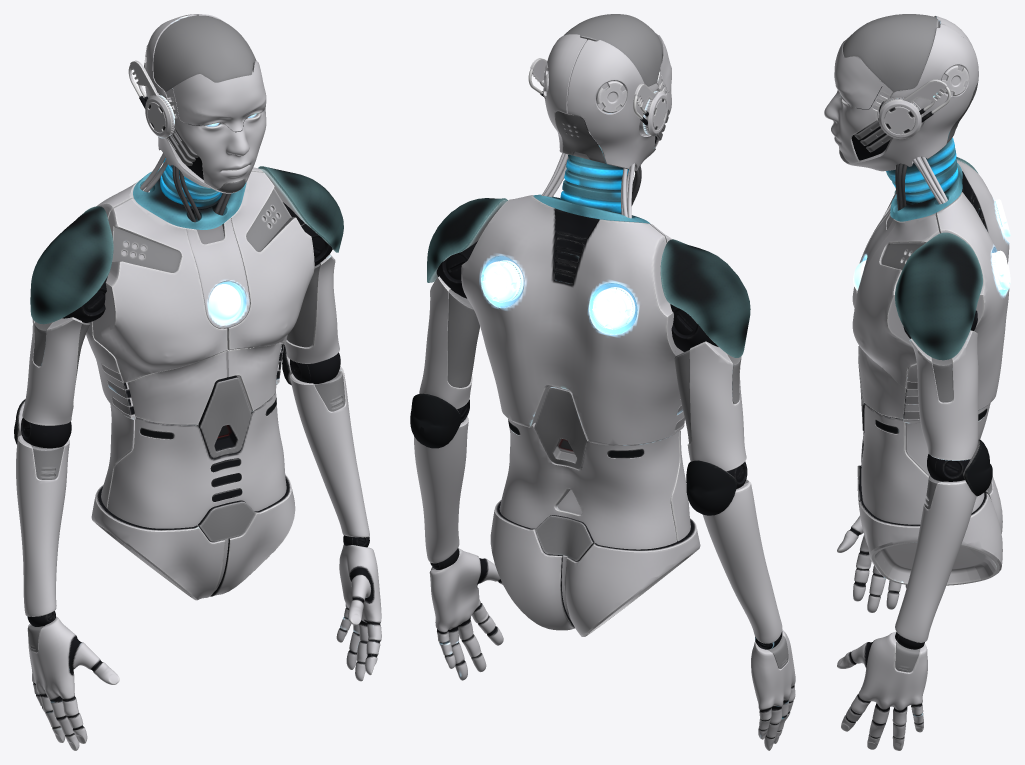
File: robot_hero.glb
3 views of the same model, side by side, from view 1: azimuth 30°, elevation 25°; view 2: azimuth 150°, elevation 25°; view 3: azimuth 270°, elevation 25° (orthographic). The views are drawn at different scales.
Parts seen in each view (by area): view 1: Robot; view 2: Robot; view 3: Robot.
Boxes of the visible parts, left/top/right/bottom form: Robot: left=14, top=14, right=381, bottom=750; Robot: left=410, top=14, right=795, bottom=750; Robot: left=824, top=14, right=1010, bottom=750.
Bounding box in the file's own units: 5.36 × 10.21 × 2.6.
1 material, 1 textured.
